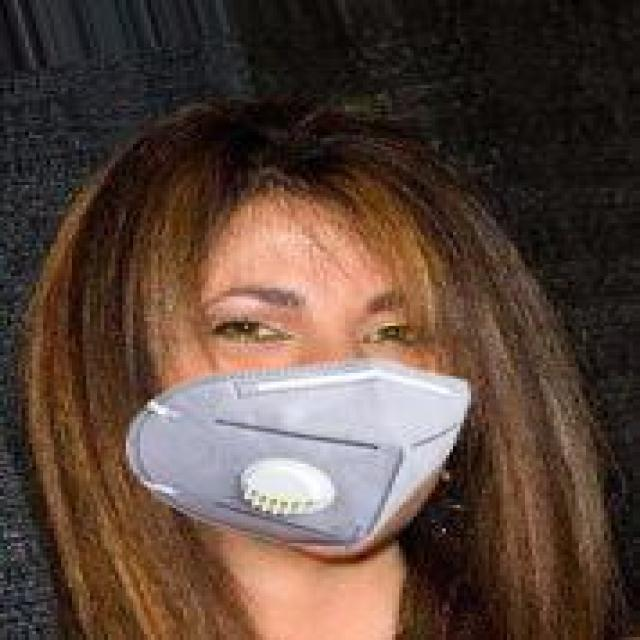mask: (97, 70, 539, 566)
